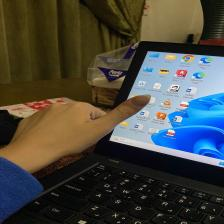five: (15, 91, 157, 170)
